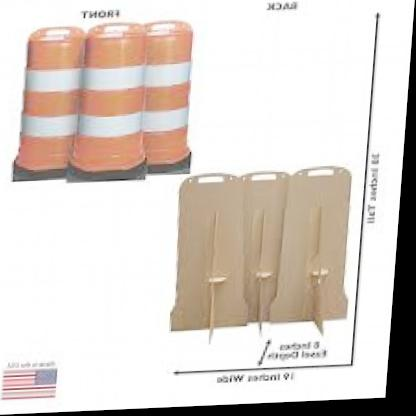obstacle: (65, 24, 154, 175), (18, 19, 86, 175), (147, 15, 198, 168)
